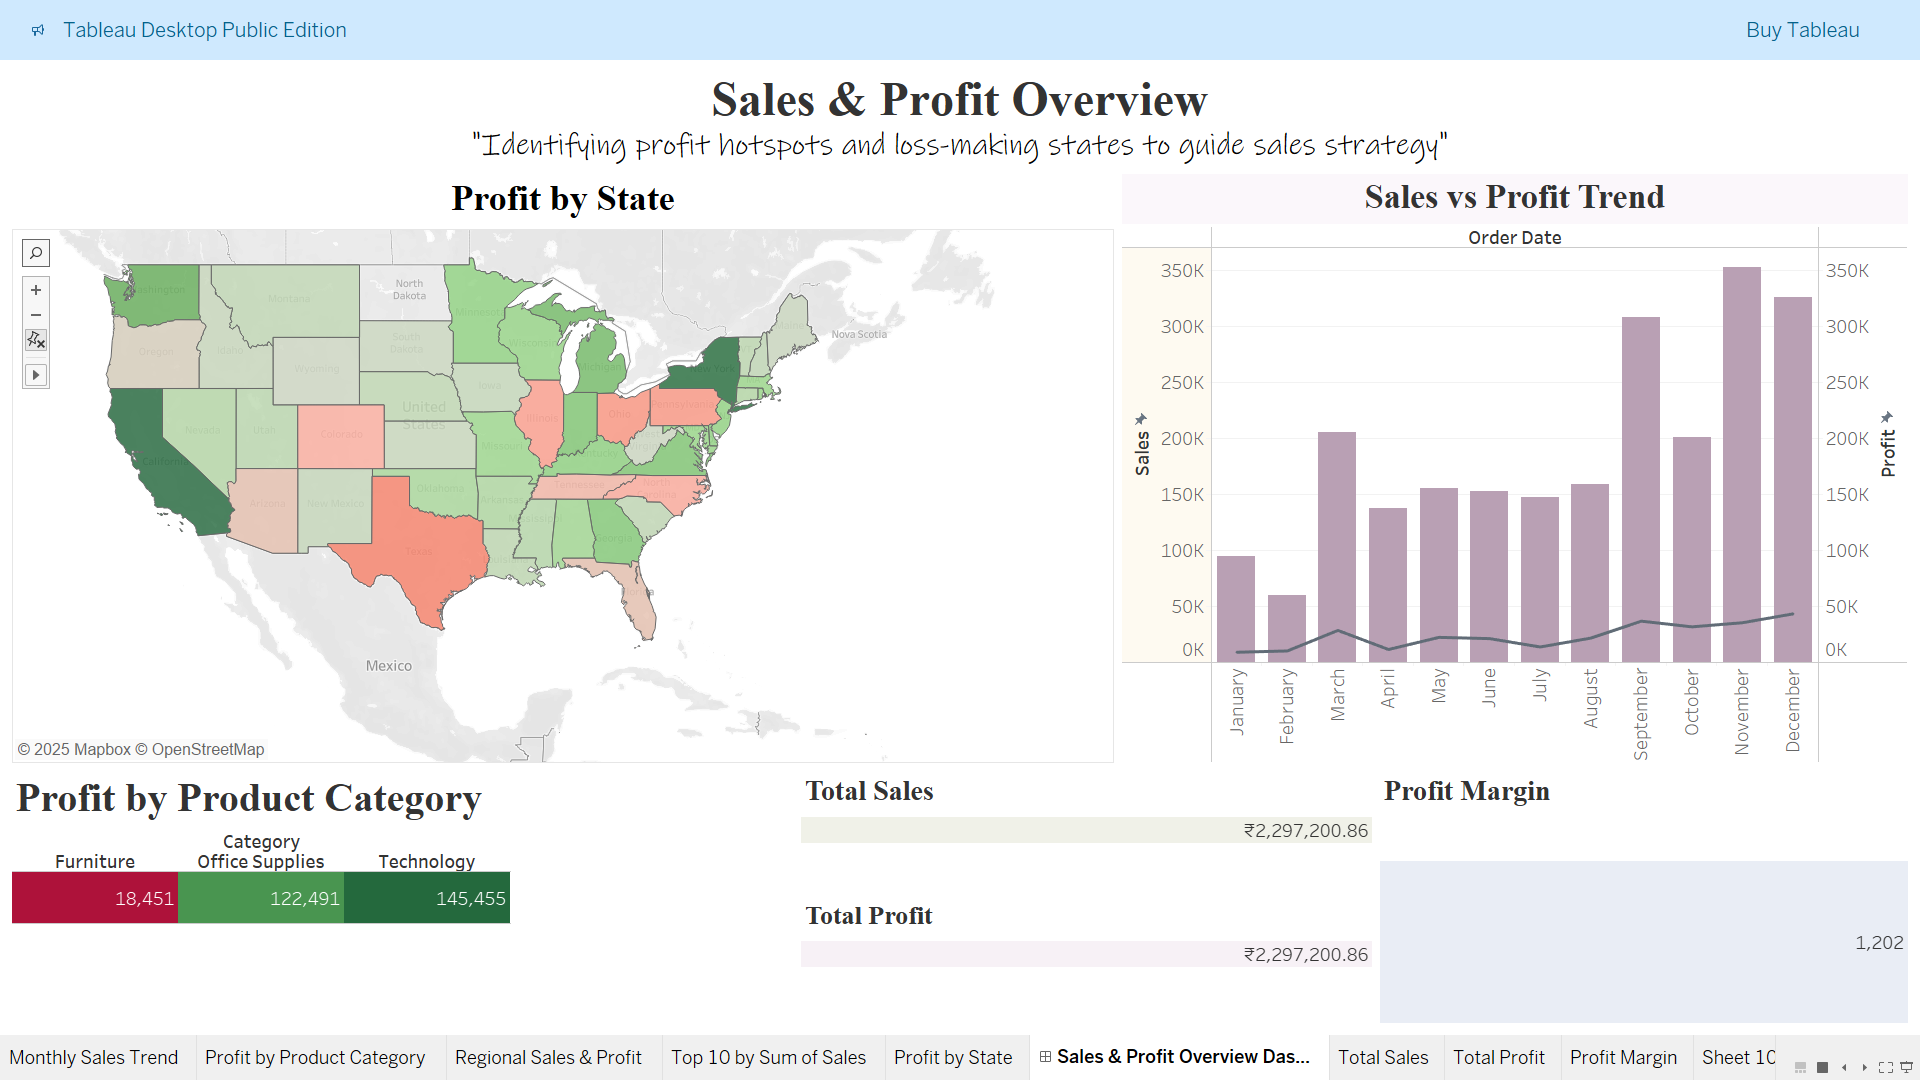

The page's visual inventory and layout, read from the dashboard file:
{"tool":"tableau","page":{"name":"Sales & Profit Overview Dashboard","canvas":[1000,1000],"units":"permille","ordinal":0},"visuals":[{"type":"title","box":[5.1,11.6,989.8,147.4]},{"type":"worksheet","title":"Profit by State","mark":"Automatic","box":[5.1,159,577.1,578]},{"type":"worksheet","title":"Monthly Sales Trend","mark":"Line","rows":["Sales","Profit"],"cols":["Order Date"],"box":[582.1,159,412.8,578]},{"type":"worksheet","title":"Profit by Product Category","mark":"Automatic","cols":["Category"],"box":[5.1,736.9,410,251.5]},{"type":"worksheet","title":"Total Sales","mark":"Automatic","box":[415.1,736.9,301.1,121.4]},{"type":"worksheet","title":"Profit Margin","mark":"Automatic","box":[716.1,736.9,278.8,251.5]},{"type":"worksheet","title":"Total Profit","mark":"Automatic","box":[415.1,858.3,301.1,130.2]}]}

Visuals, with their boxes on the dashboard's canvas, which has no fixed pixel size, in thousandths of its width and height (x1, y1, x2, y2). These are canvas units, not pixel positions in the 1920x1080 screenshot, which may show the page scaled, cropped or inside an application window:
title: 5/12/995/159
"Profit by State" worksheet: 5/159/582/737
"Monthly Sales Trend" worksheet (Line marks): 582/159/995/737
"Profit by Product Category" worksheet: 5/737/415/988
"Total Sales" worksheet: 415/737/716/858
"Profit Margin" worksheet: 716/737/995/988
"Total Profit" worksheet: 415/858/716/988
